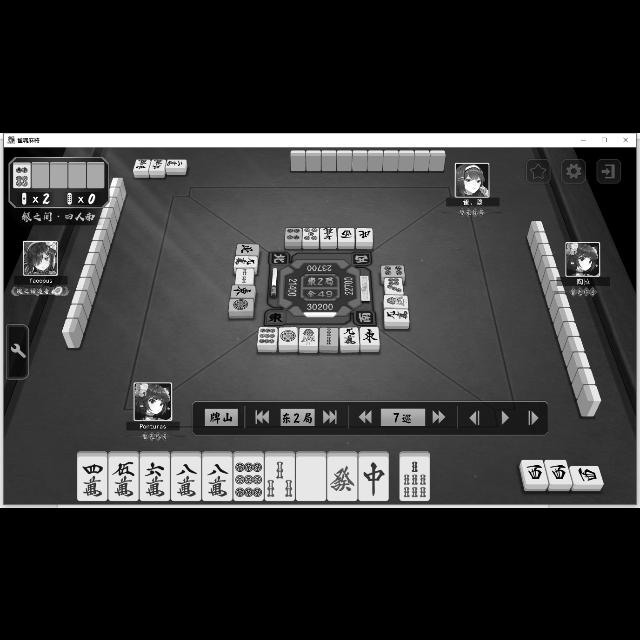1p: (279, 326, 297, 344), (228, 298, 254, 310)
1s: (300, 326, 318, 346), (383, 294, 409, 306)
2m: (166, 158, 188, 166)
2s: (320, 327, 338, 345), (236, 268, 252, 282)
3m: (149, 158, 165, 170)
3s: (265, 456, 295, 500)
4m: (77, 456, 106, 500), (132, 158, 150, 170)
4p: (380, 264, 406, 276), (284, 227, 302, 241)
5m: (108, 456, 140, 500)
5p: (302, 226, 320, 242)
6m: (140, 456, 170, 500)
6p: (13, 164, 31, 186)
7m: (319, 228, 336, 240)
7p: (384, 277, 404, 293)
7s: (400, 456, 430, 500)
8m: (203, 456, 233, 500), (172, 456, 200, 500)
9m: (384, 308, 411, 320), (340, 328, 358, 344), (235, 256, 258, 266)
9p: (234, 456, 264, 500), (258, 327, 276, 345)
chun: (359, 456, 389, 500)
haku: (296, 456, 326, 500)
hatsu: (327, 456, 358, 500)
pe: (236, 243, 258, 255), (356, 226, 372, 240)
sha: (520, 460, 550, 484), (546, 459, 572, 483), (572, 465, 602, 483), (338, 228, 354, 240)
tou: (359, 326, 378, 344), (230, 285, 254, 297)
